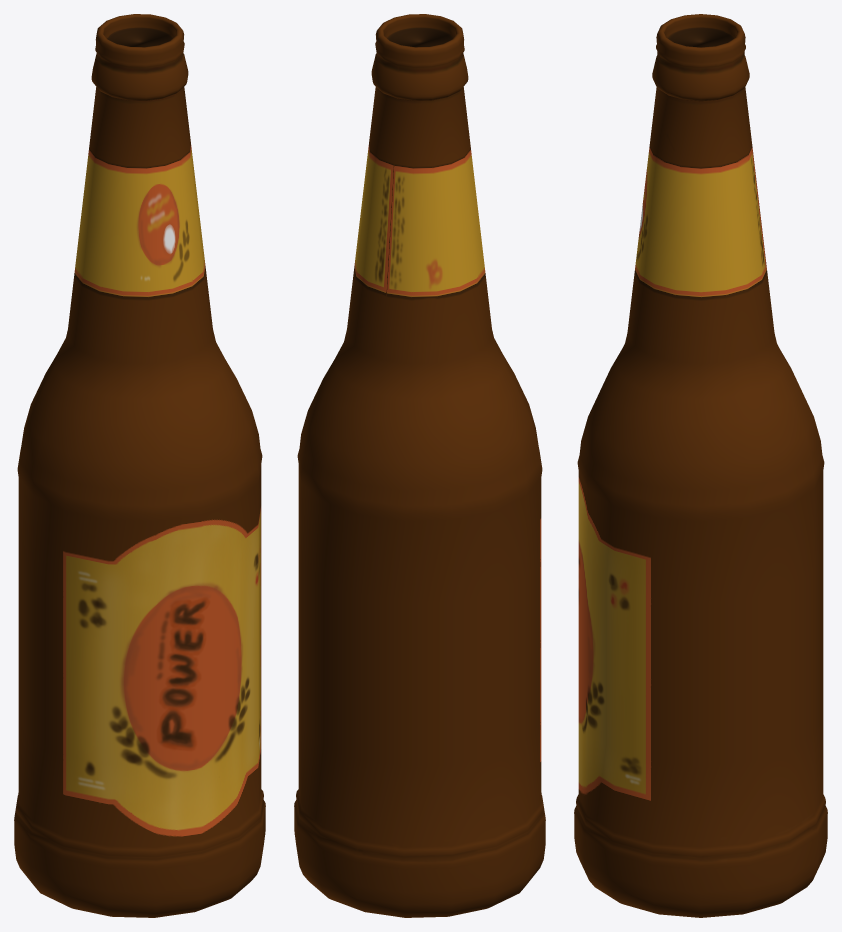
Rendered from BotellaCerveza_01 .fbx.
3 renders of one model, left to right at view 1: azimuth 30°, elevation 25°; view 2: azimuth 150°, elevation 25°; view 3: azimuth 270°, elevation 25°, orthographic.
Parts seen in each view (by area): view 1: Cylinder; view 2: Cylinder; view 3: Cylinder.
Boxes of the visible parts, x1,y1,x2,y2 form: Cylinder: (14, 14, 265, 917); Cylinder: (294, 14, 545, 917); Cylinder: (574, 14, 827, 917).
Size of the model in its own units: 0.0687 by 0.2514 by 0.0687.
